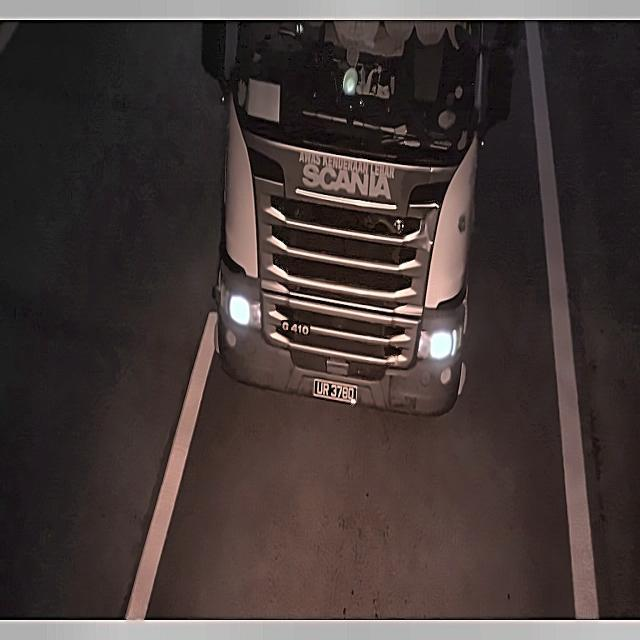car: (310, 369, 362, 412)
